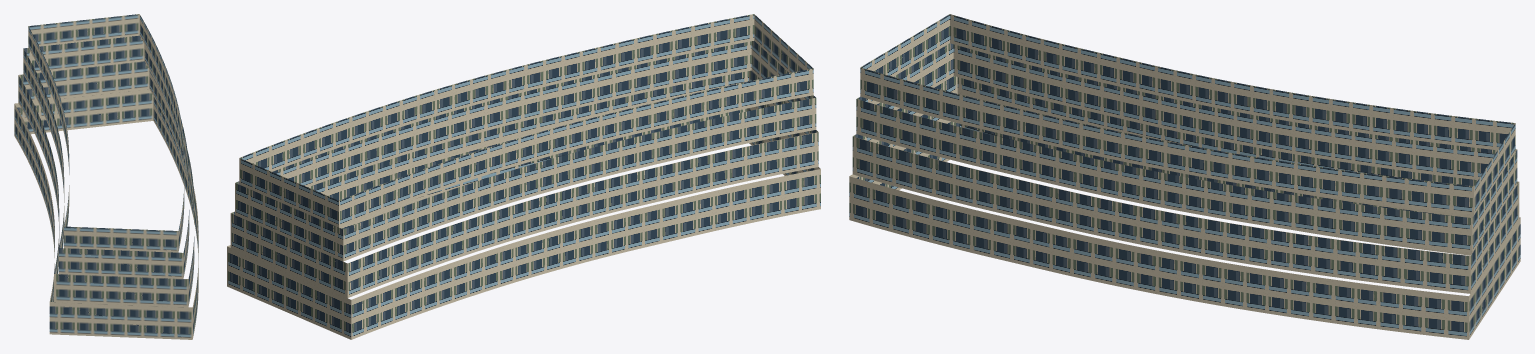
File: monaco-fairmont.glb
3 views of the same model, side by side, from view 1: azimuth 30°, elevation 25°; view 2: azimuth 150°, elevation 25°; view 3: azimuth 270°, elevation 25° (orthographic). The views are drawn at different scales.
Visible parts, largest first — view 1: monaco-fairmont; view 2: monaco-fairmont; view 3: monaco-fairmont.
Part boxes in pixels (x1=…): monaco-fairmont: x1=14, y1=14, x2=198, y2=339; monaco-fairmont: x1=227, y1=14, x2=820, y2=339; monaco-fairmont: x1=849, y1=14, x2=1520, y2=339.
Size of the model in its own units: 58.79 by 21.62 by 86.83.
Materials: 1 (1 with a texture image).
